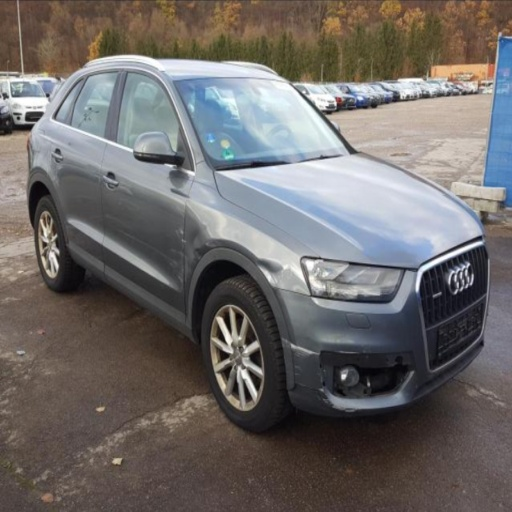dent: (162, 189, 226, 305), (255, 252, 318, 303)
scratch: (290, 341, 321, 392), (317, 389, 356, 413), (167, 248, 183, 259), (176, 227, 185, 244), (176, 273, 183, 285)
